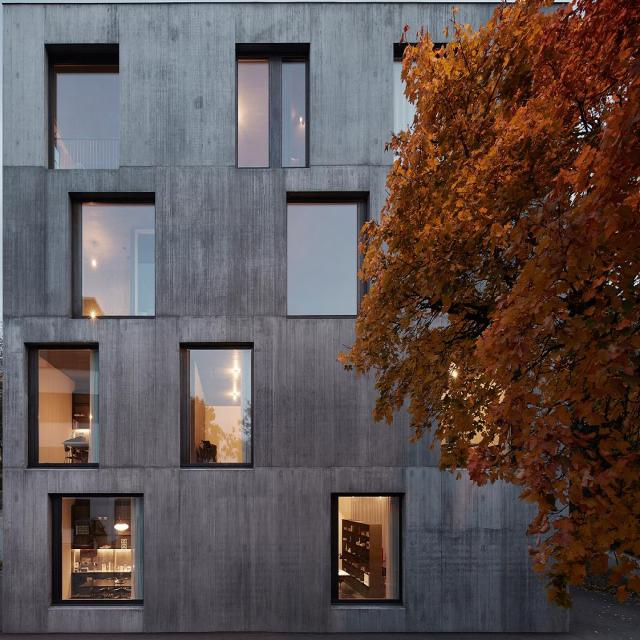Railing: (46, 134, 120, 170)
plant: (338, 0, 640, 603)
wall: (0, 0, 570, 638)
windows: (77, 198, 155, 318), (59, 493, 144, 603), (285, 194, 360, 318), (182, 346, 254, 467), (237, 53, 308, 170), (47, 51, 118, 168), (335, 493, 403, 607), (35, 350, 100, 466)
